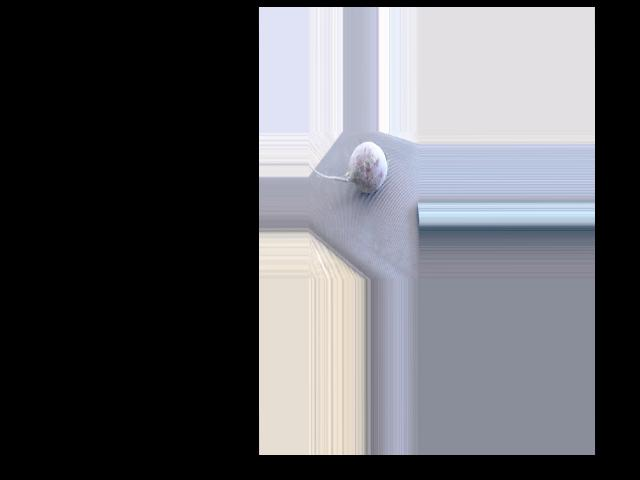beet: (308, 142, 387, 193)
